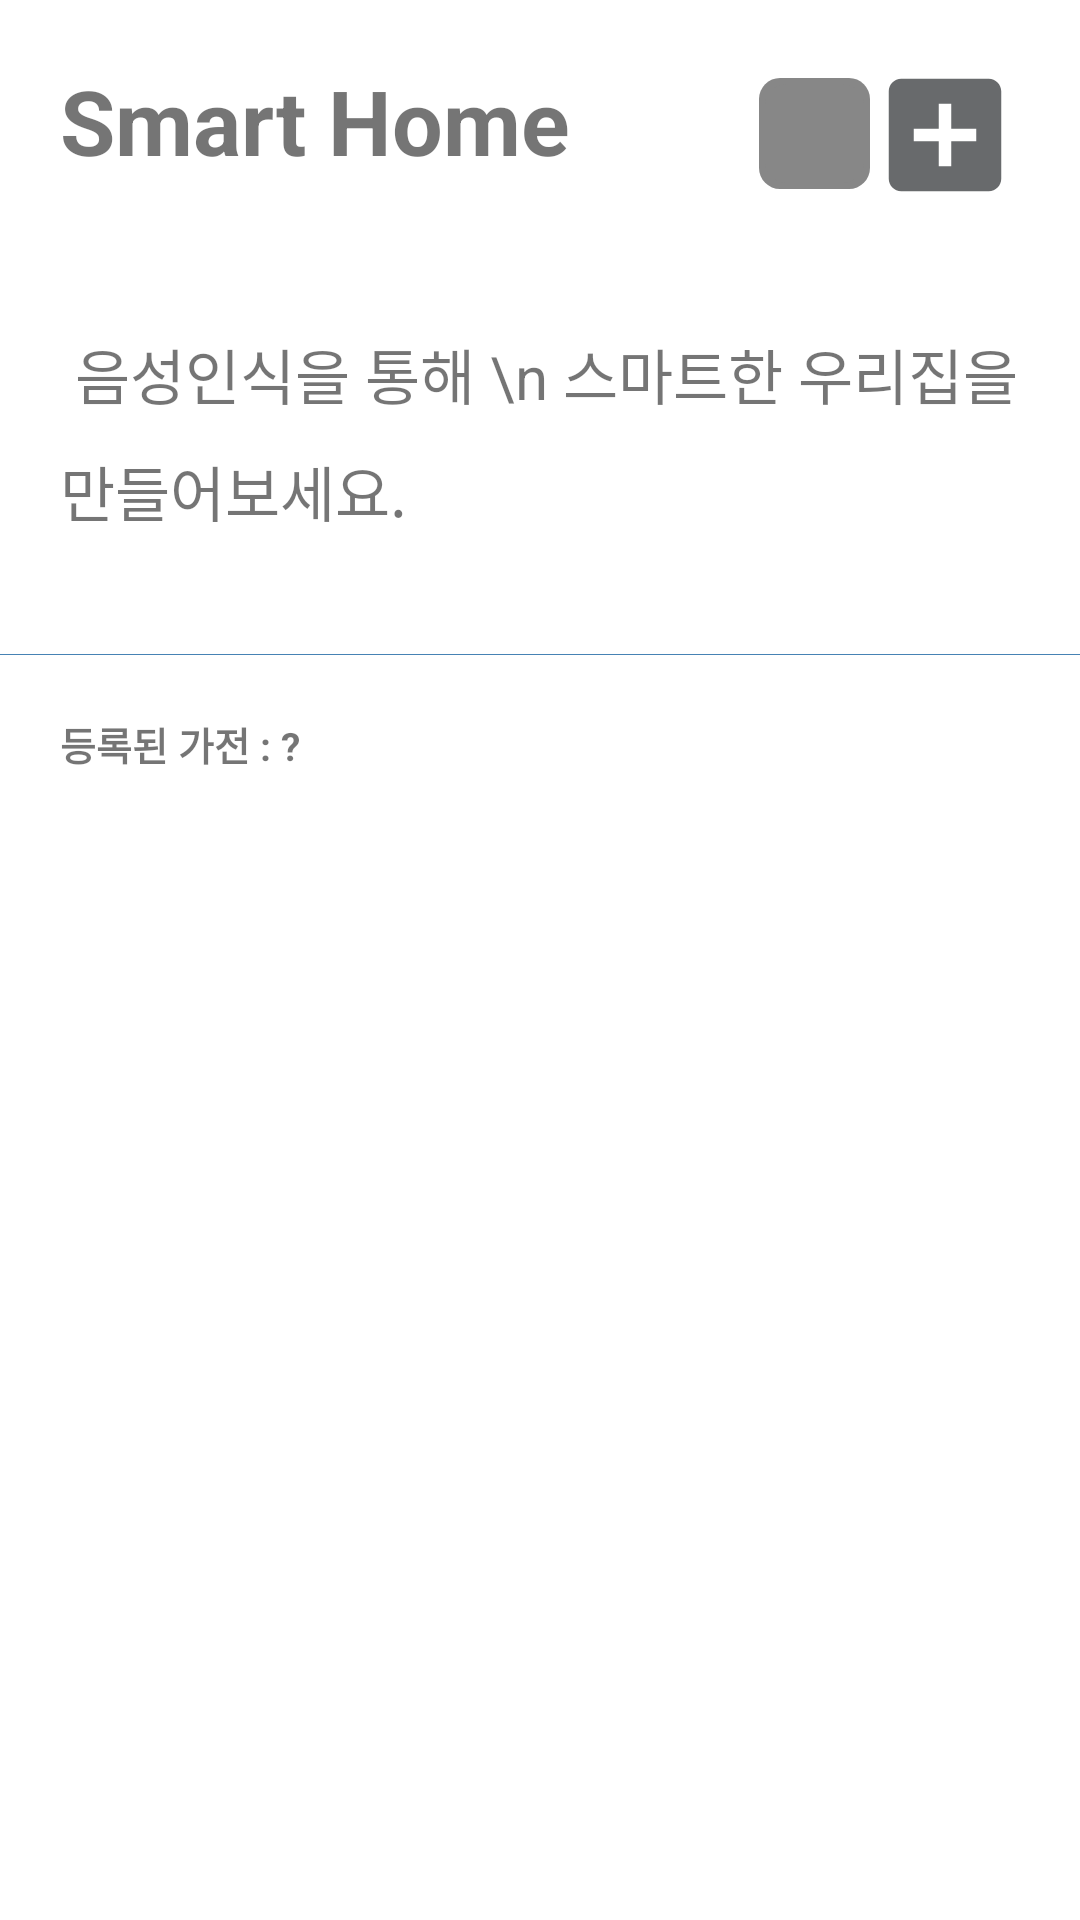

Where icons sit on this 1080*1920 app screen, as (x1, y1, x2, y2):
add box: (888, 78, 1002, 192)
